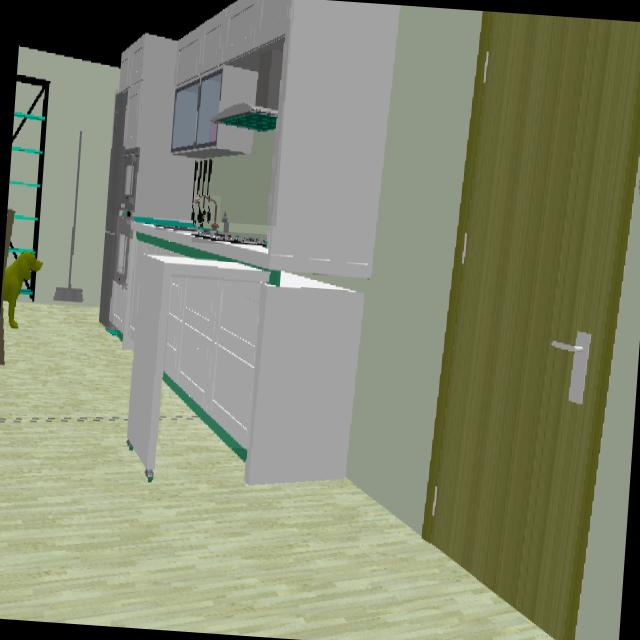cabinet: (119, 0, 290, 220), (165, 277, 260, 448)
fridge: (99, 90, 127, 325)
microwave: (120, 147, 139, 211)
oven: (115, 209, 132, 283)
sink: (197, 195, 218, 232), (155, 225, 198, 232)
stove: (193, 230, 266, 247)
